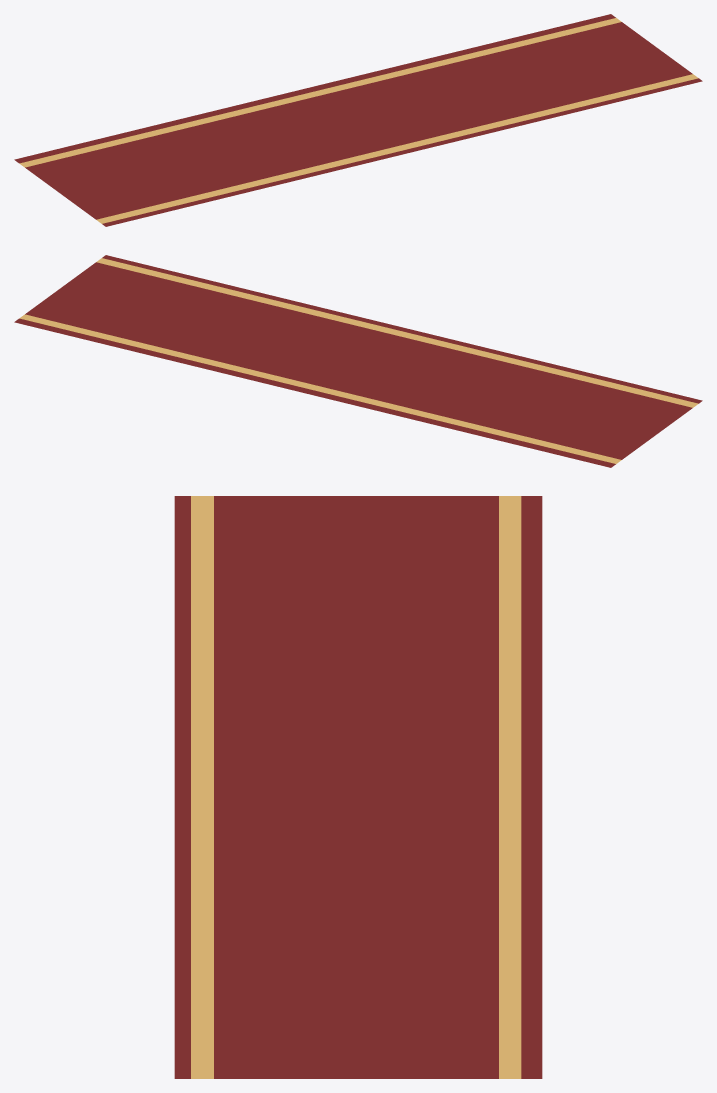
File: long carpet.fbx
3 views of the same model, one above another, from view 1: azimuth 30°, elevation 25°; view 2: azimuth 150°, elevation 25°; view 3: azimuth 270°, elevation 25° (orthographic). The views are drawn at different scales.
Visible parts, largest first — view 1: Plane001; view 2: Plane001; view 3: Plane001.
Boxes of the visible parts, bbox=[...] form: Plane001: bbox=[14, 14, 702, 226]; Plane001: bbox=[14, 255, 702, 467]; Plane001: bbox=[174, 496, 542, 1078].
Bounding box in the file's own units: 558 × 149 × 0.
